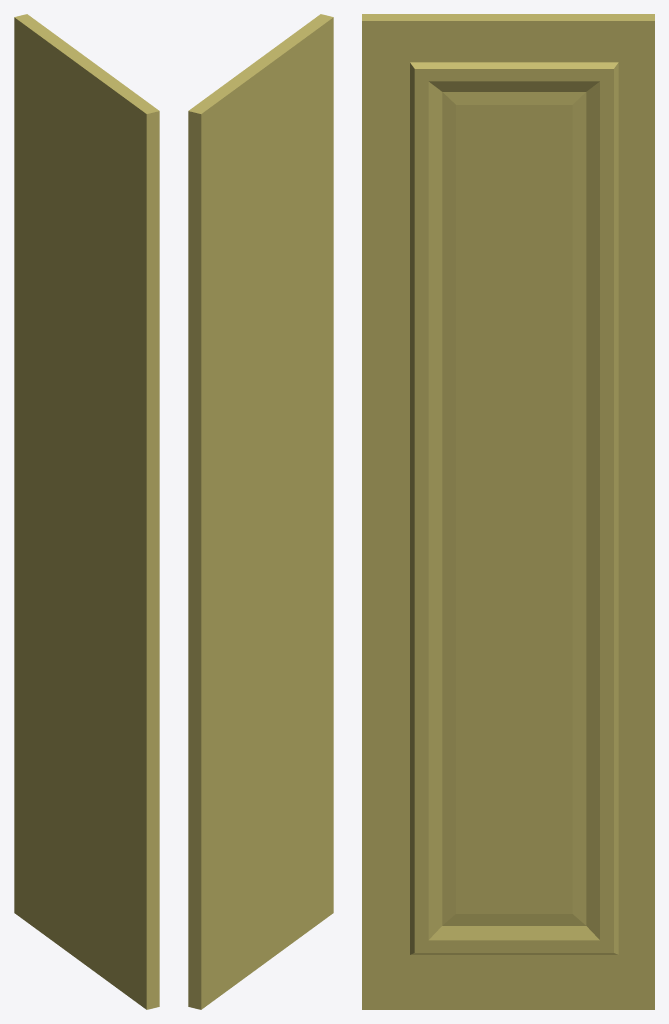
The model's file is pasted__door10.fbx.
3 views of the same model, side by side, from view 1: azimuth 30°, elevation 25°; view 2: azimuth 150°, elevation 25°; view 3: azimuth 270°, elevation 25° (orthographic). The views are drawn at different scales.
Visible parts, largest first — view 1: pasted__gold_134; view 2: pasted__gold_134; view 3: pasted__gold_134.
Part boxes in pixels (x1,y1,x2,y2): pasted__gold_134: (14,14,159,1009); pasted__gold_134: (188,14,333,1009); pasted__gold_134: (362,14,654,1009).
Size of the model in its own units: 1.77 by 23.83 by 88.83.
